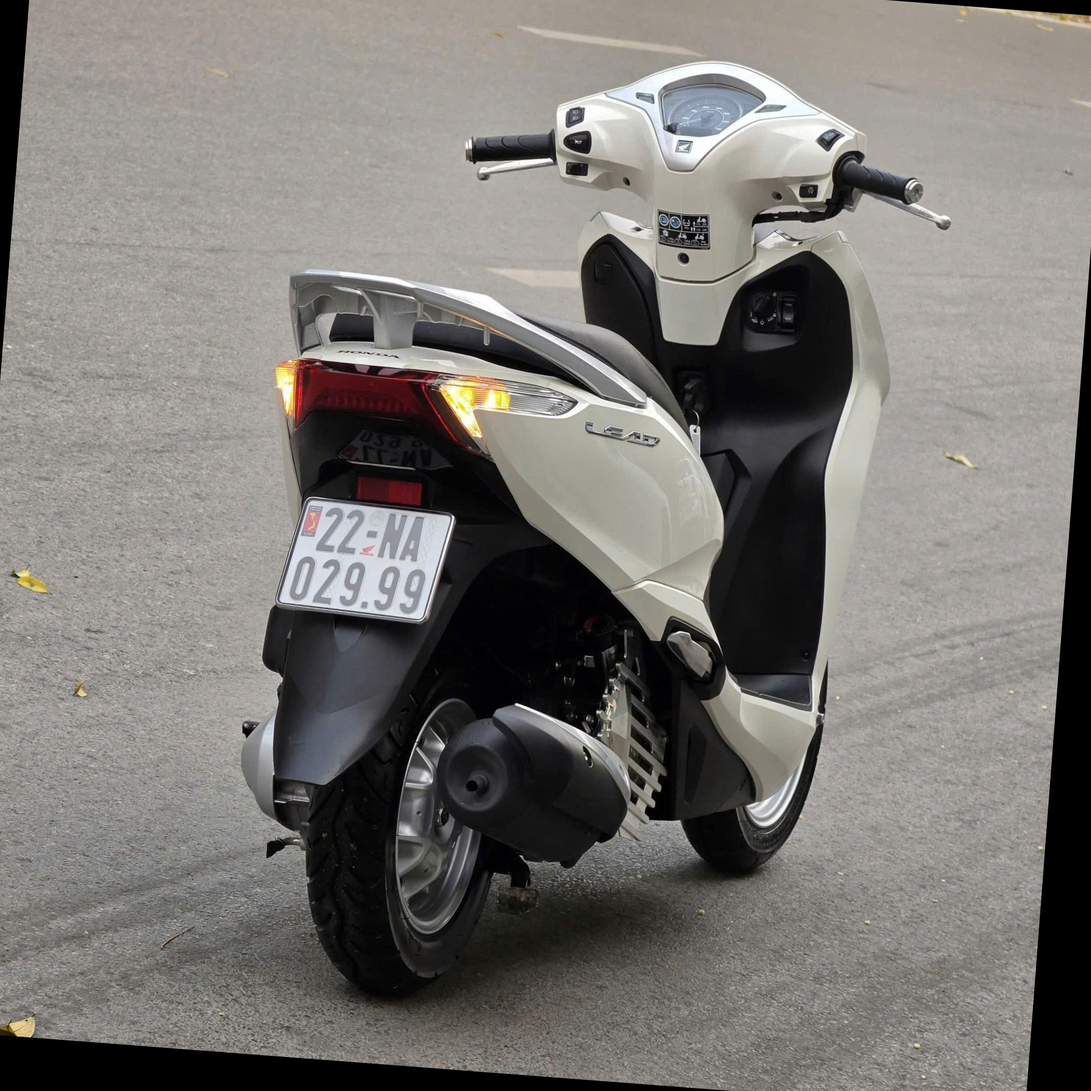Bien-so: (307, 539, 484, 653)
